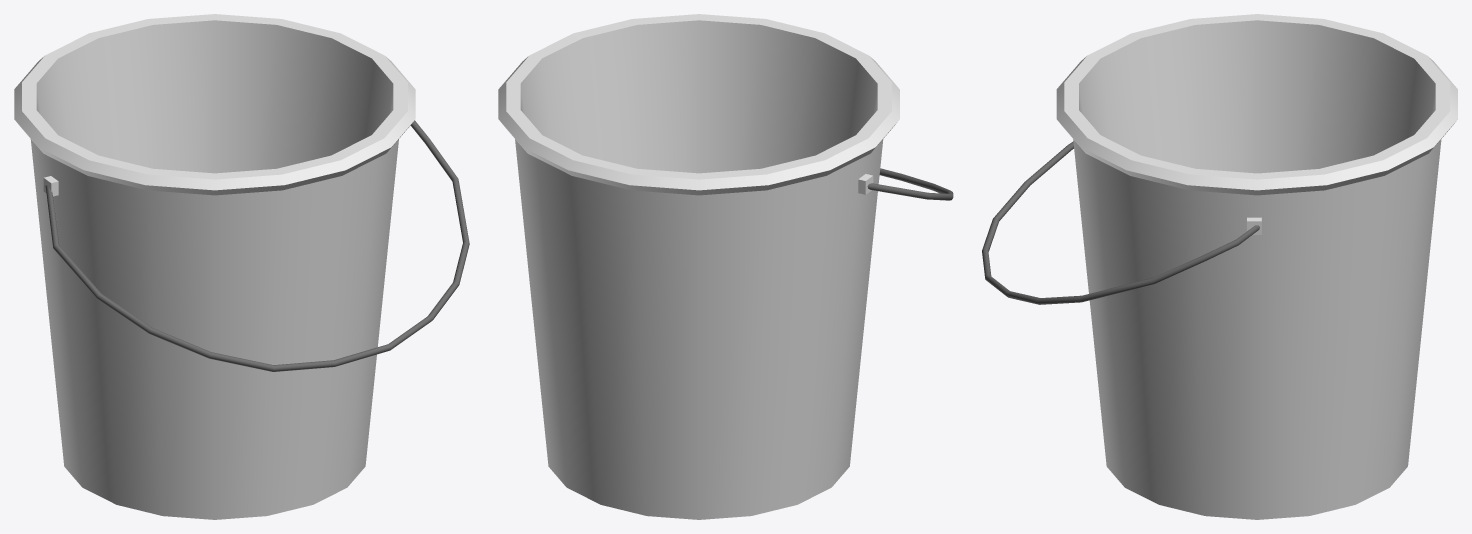
The model's file is SM_NailBin.FBX.
3 renders of one model, left to right at view 1: azimuth 30°, elevation 25°; view 2: azimuth 150°, elevation 25°; view 3: azimuth 270°, elevation 25°, orthographic.
Parts seen in each view (by area): view 1: NailBin; view 2: NailBin; view 3: NailBin.
Part boxes in pixels (x1,y1,x2,y2): NailBin: (14, 14, 469, 519); NailBin: (498, 14, 953, 519); NailBin: (982, 14, 1457, 519).
Bounding box in the file's own units: 29.54 × 26.06 × 31.36.
